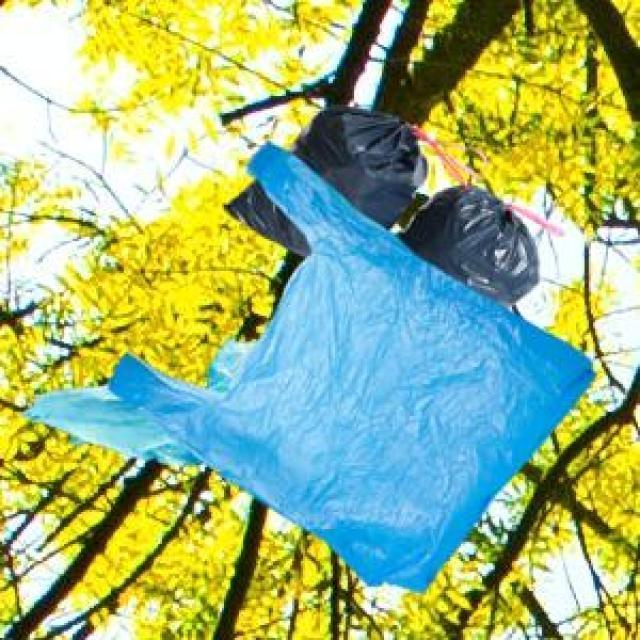miscellaneous trash: (220, 102, 559, 305)
